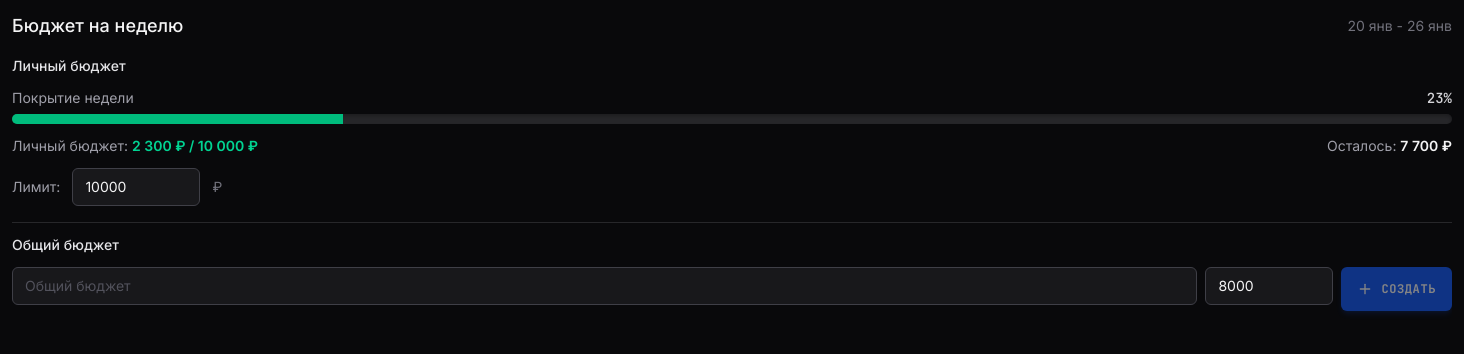
it: WeeklyBudget › limit editing › rejects a zero limit with an inline error
Replace the text in the field showing "10000" with "0". click: (136, 187)
box: top-left (72, 168), bottom-right (200, 206)
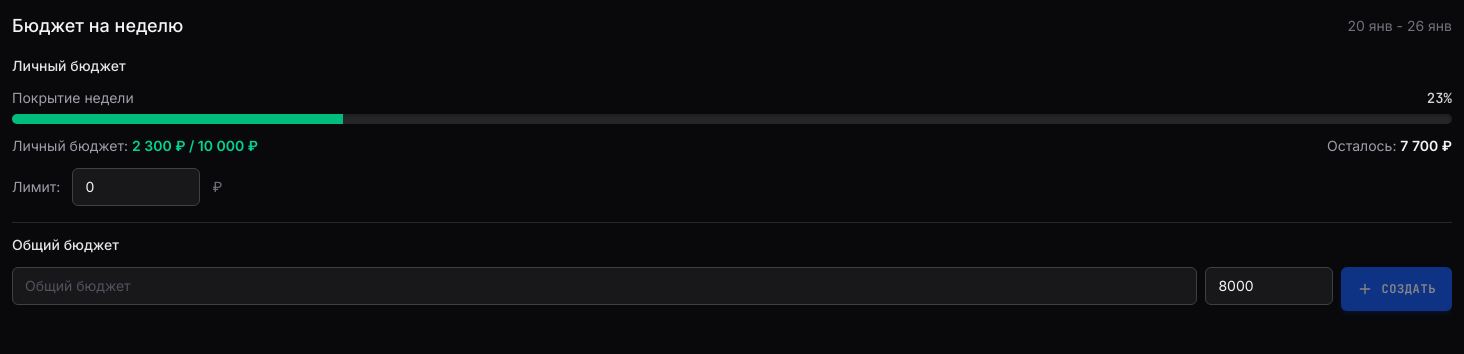
Leave the field showing "10000", box top-left (72, 168), bottom-right (200, 206)
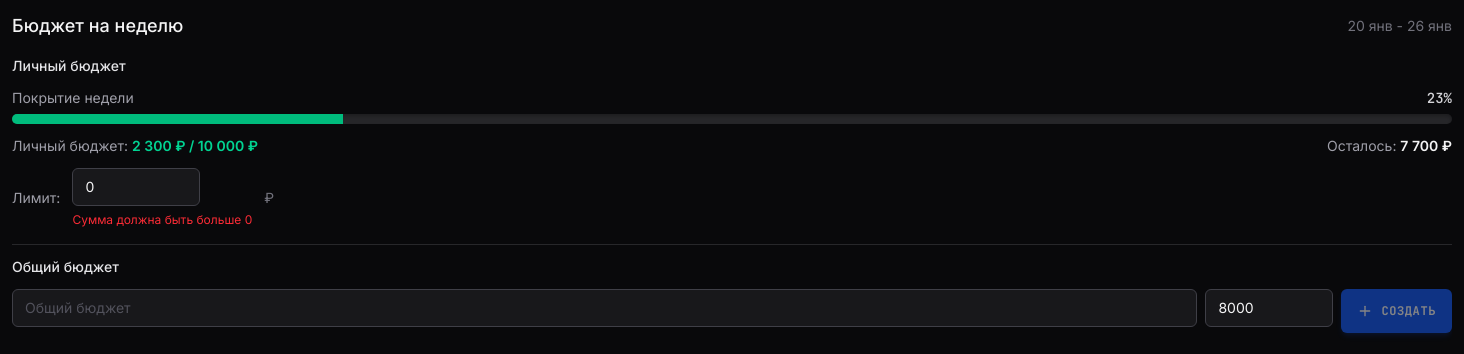
Check: the message reads "Сумма должна быть больше 0", box top-left (72, 212), bottom-right (252, 227)
